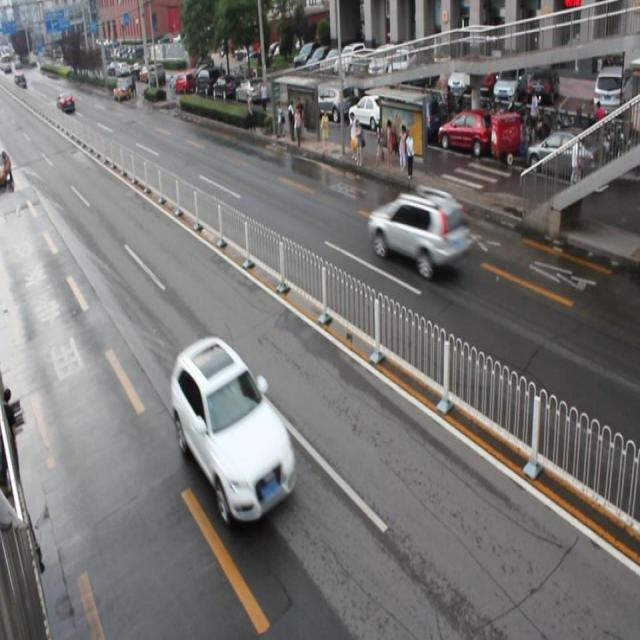car: (169, 336, 297, 527), (366, 187, 471, 279)
